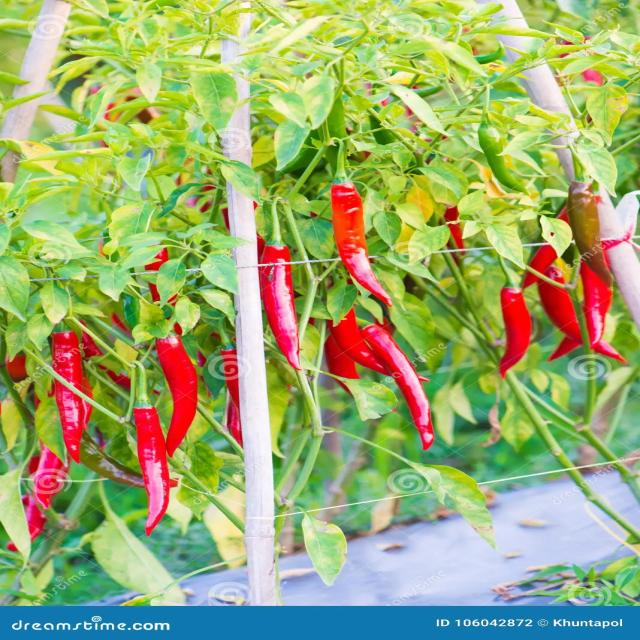chili: (360, 324, 433, 449), (330, 182, 392, 306), (259, 199, 301, 370), (156, 336, 198, 456), (133, 406, 170, 534), (328, 308, 392, 375), (538, 265, 582, 361), (498, 286, 532, 377), (580, 262, 613, 349), (55, 381, 85, 462), (51, 331, 83, 389), (324, 335, 360, 379)
